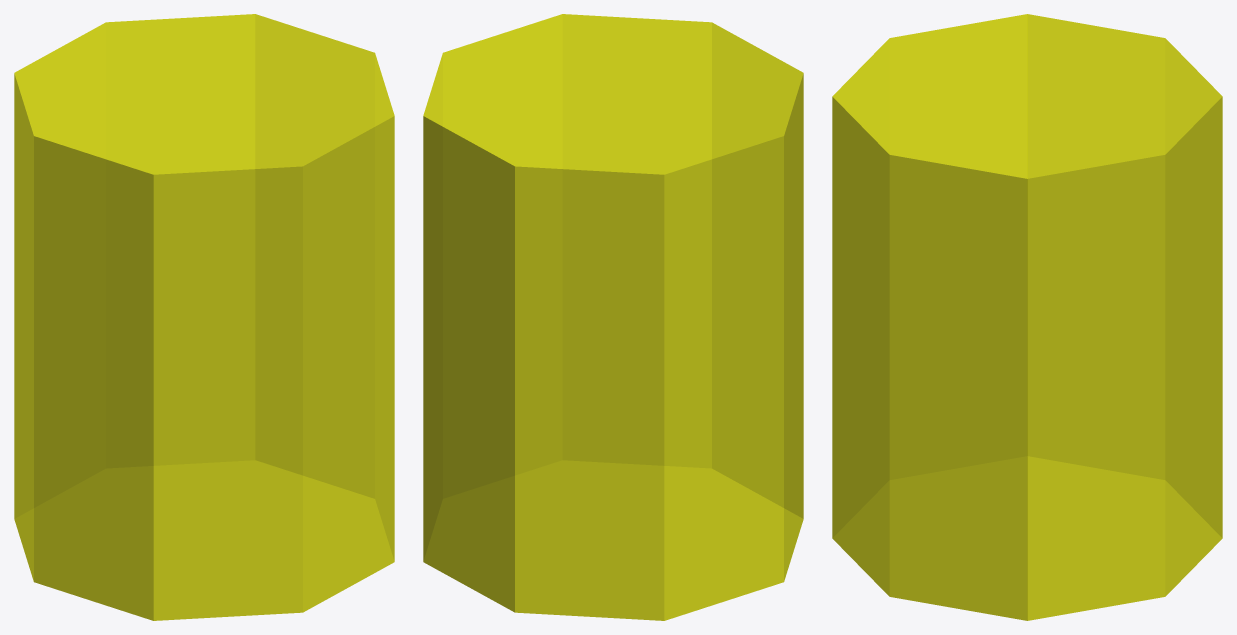
The model's file is wire.fbx.
3 views of the same model, side by side, from view 1: azimuth 30°, elevation 25°; view 2: azimuth 150°, elevation 25°; view 3: azimuth 270°, elevation 25° (orthographic).
Parts seen in each view (by area): view 1: pCylinder1; view 2: pCylinder1; view 3: pCylinder1.
Part boxes in pixels (x1=…): pCylinder1: x1=14, y1=14, x2=394, y2=620; pCylinder1: x1=423, y1=14, x2=803, y2=620; pCylinder1: x1=832, y1=14, x2=1222, y2=620.
Bounding box in the file's own units: 0.8 × 1 × 0.8.
